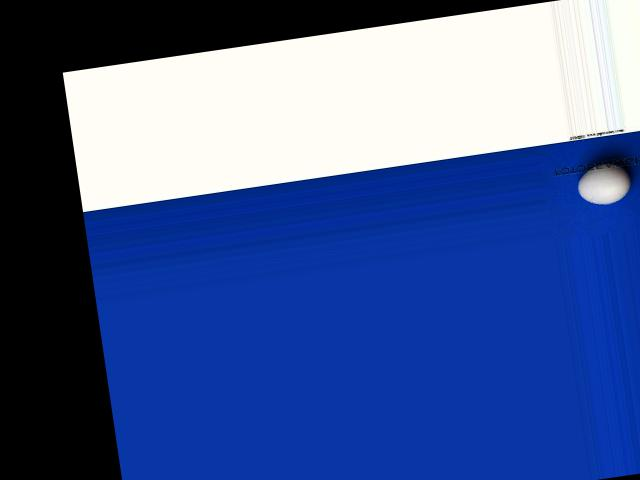egg: (575, 159, 633, 207)
